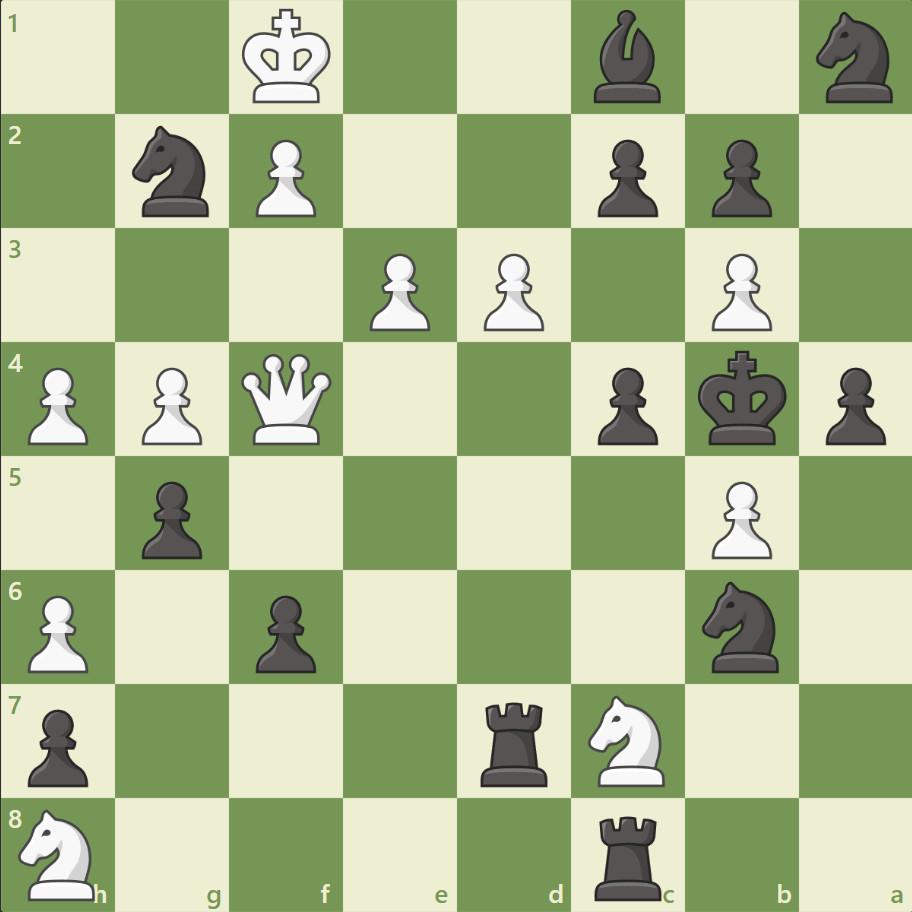K: (238, 4, 338, 112)
N: (579, 688, 676, 791), (11, 802, 108, 904)
P: (20, 586, 95, 677), (701, 473, 776, 564), (133, 359, 208, 450), (20, 359, 95, 450), (701, 246, 776, 337), (474, 246, 549, 337), (247, 132, 322, 223), (361, 246, 435, 337)
Q: (237, 349, 336, 449)
b: (585, 6, 669, 109)
k: (692, 344, 792, 452)
n: (124, 121, 222, 223), (806, 7, 903, 110), (692, 575, 789, 677)
p: (20, 700, 95, 791), (247, 586, 322, 677), (133, 473, 208, 564), (701, 132, 776, 223), (815, 359, 889, 450), (588, 359, 662, 450), (588, 132, 662, 223)
r: (587, 806, 670, 904), (473, 693, 556, 790)
